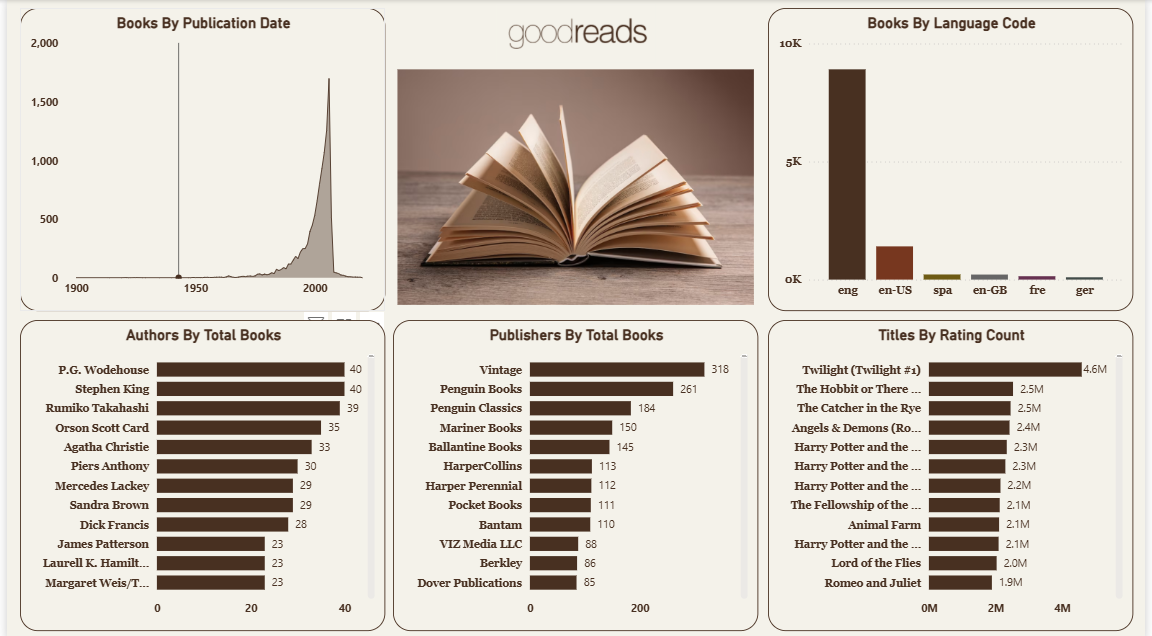

The dashboard page shown, as its layout file describes it:
{"tool":"powerbi","page":{"name":"Page 1","canvas":[1280,720],"ordinal":0},"visuals":[{"type":"areaChart","title":"Books By Publication Date","fields":{"Category":["books.publication_date.Variation.Date Hierarchy.Year"],"Y":["CountNonNull(books.bookID)"]},"box":[14.1,9,411.2,340.6],"z":0},{"type":"clusteredBarChart","title":"Authors By Total Books","fields":{"Category":["books.authors"],"Y":["CountNonNull(books.bookID)"]},"box":[14.1,359.8,411.2,349.6],"z":1000},{"type":"clusteredBarChart","title":"Publishers By Total Books","fields":{"Y":["CountNonNull(books.bookID)"],"Category":["books.publisher"]},"box":[434.4,359.8,411.2,349.6],"z":2000},{"type":"clusteredBarChart","title":"Titles By Rating Count","fields":{"Category":["books.title"],"Y":["Sum(books.ratings_count)"]},"box":[855.9,359.8,411.2,349.6],"z":3000},{"type":"image","box":[434.4,72,411.2,277.6],"z":4000},{"type":"image","box":[434.4,0,411.2,74.5],"z":5000},{"type":"clusteredColumnChart","title":"Books By Language Code","fields":{"Category":["books.language_code"],"Y":["CountNonNull(books.bookID)"]},"box":[855.9,9,411.2,340.6],"z":6000}]}

Visuals, with their boxes in screenshot pixels (x1, y1, x2, y2), scaled from the page's 1280x720 canvas onto the 1152x636 screenshot:
"Books By Publication Date" areaChart: 13/8/383/309
"Authors By Total Books" clusteredBarChart: 13/318/383/627
"Publishers By Total Books" clusteredBarChart: 391/318/761/627
"Titles By Rating Count" clusteredBarChart: 770/318/1140/627
image: 391/64/761/309
image: 391/0/761/66
"Books By Language Code" clusteredColumnChart: 770/8/1140/309
